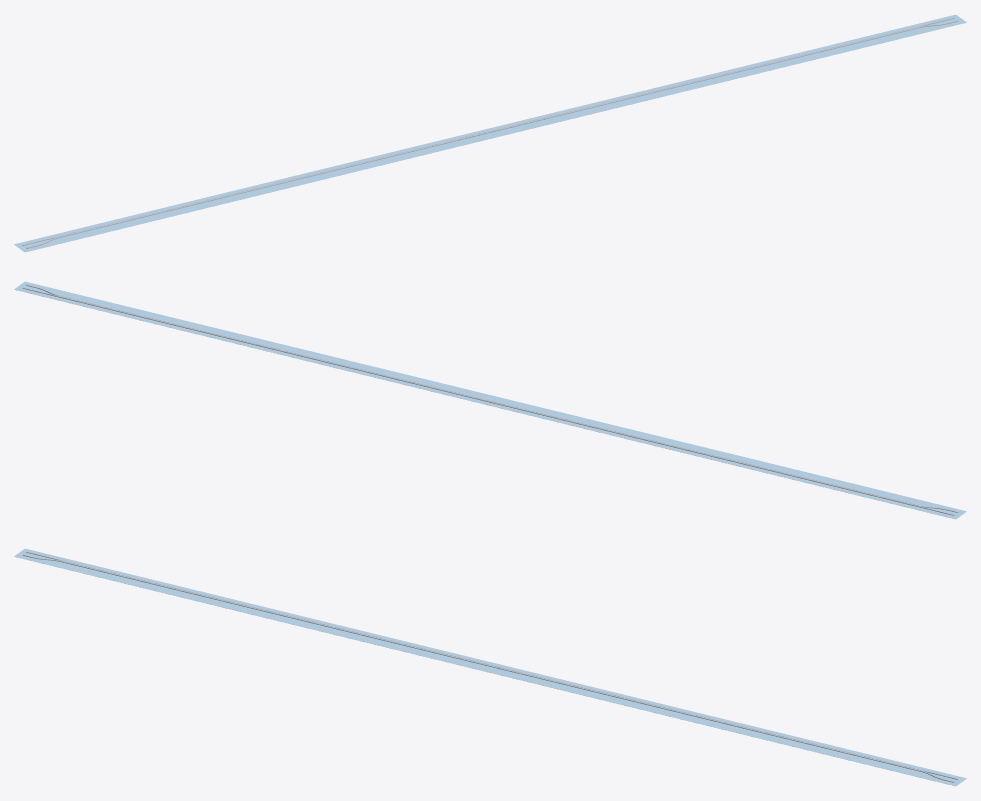
File: siepic-contradc.glb
3 views of the same model, one above another, from view 1: azimuth 30°, elevation 25°; view 2: azimuth 150°, elevation 25°; view 3: azimuth 330°, elevation 25° (orthographic).
Parts seen in each view (by area): view 1: box_top, core_0, core_1; view 2: box_top, core_1, core_0; view 3: box_top, core_0, core_1.
Part boxes in pixels (x1,y1,x2,y2): box_top: [14, 14, 966, 252]; core_0: [26, 20, 958, 248]; core_1: [22, 17, 954, 245]; box_top: [14, 281, 966, 519]; core_1: [22, 287, 954, 515]; core_0: [26, 284, 958, 512]; box_top: [14, 548, 966, 786]; core_0: [22, 554, 954, 782]; core_1: [26, 551, 958, 779].
Bounding box in the file's own units: 348 × 0.26 × 7.03.
